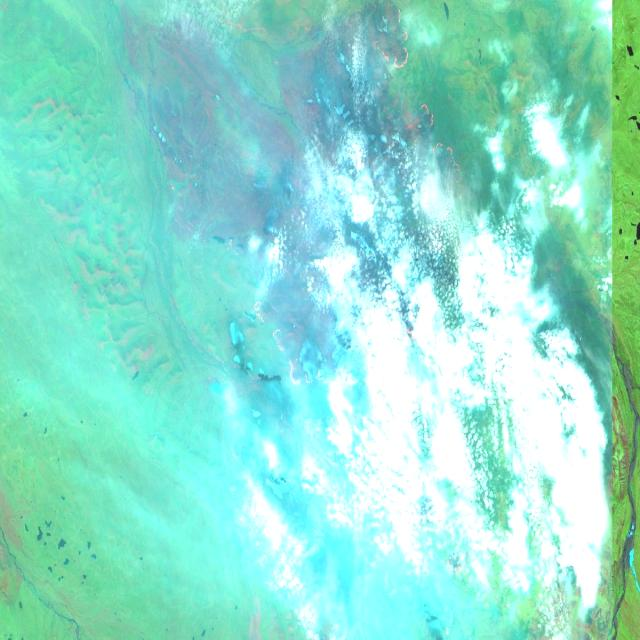fire: (365, 2, 481, 190), (242, 294, 355, 404), (432, 538, 486, 601)
